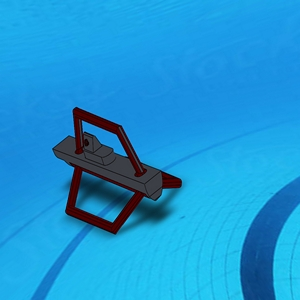submarine: (53, 102, 179, 242)
